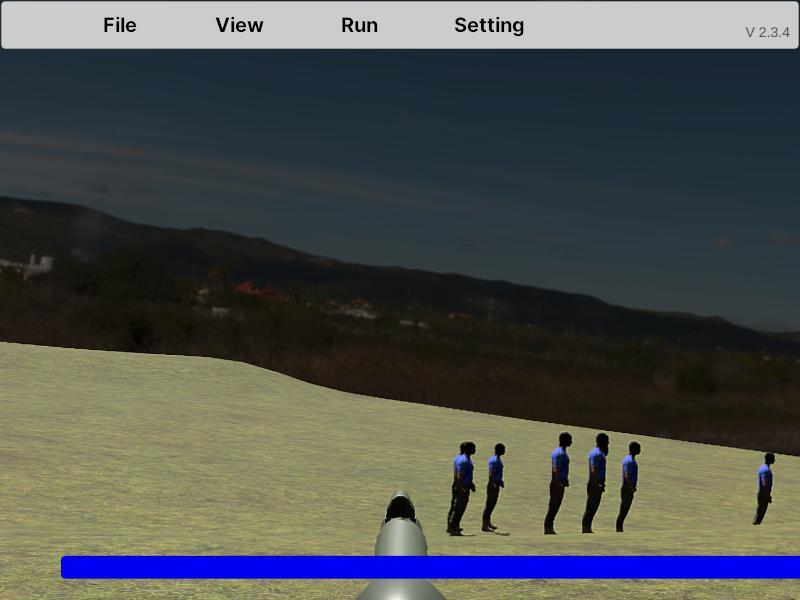Human: (579, 431, 610, 538), (543, 432, 573, 537), (446, 442, 477, 534), (614, 441, 641, 539), (481, 442, 506, 532)
